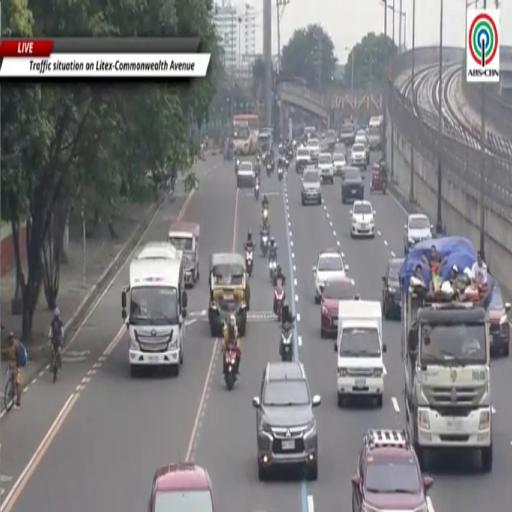bus: (233, 114, 259, 155)
car: (253, 362, 320, 481), (352, 430, 432, 511), (149, 462, 215, 511), (321, 277, 355, 338), (313, 249, 348, 303), (488, 281, 510, 357), (382, 259, 404, 319), (404, 214, 433, 253), (351, 201, 375, 237), (342, 166, 364, 203), (301, 168, 321, 205), (355, 130, 370, 164), (318, 153, 333, 184), (351, 142, 367, 169), (369, 117, 382, 150), (237, 162, 254, 187), (339, 123, 355, 146), (296, 148, 311, 172), (307, 138, 320, 163), (333, 153, 346, 177), (323, 131, 336, 152), (334, 142, 347, 155), (355, 130, 367, 143)
jeepney: (208, 253, 250, 337), (168, 221, 199, 286)
motorcycle: (224, 348, 237, 390), (280, 326, 293, 361), (273, 285, 285, 322), (261, 232, 269, 257), (246, 249, 253, 277), (268, 260, 276, 282), (262, 206, 269, 227), (254, 183, 259, 200), (266, 163, 273, 175), (235, 159, 240, 174), (278, 167, 283, 181), (285, 157, 289, 169)
tricycle: (370, 165, 387, 194)
truck: (400, 239, 492, 472), (122, 243, 187, 377), (335, 298, 386, 407)
